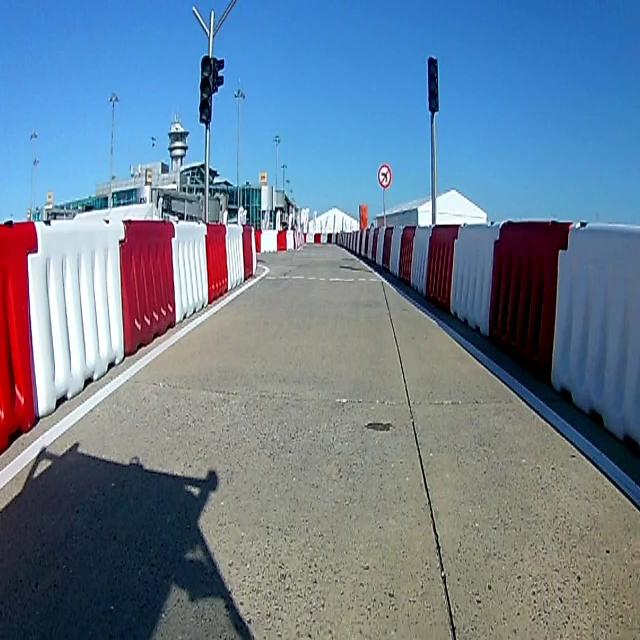soladonulmez: (378, 165, 392, 188)
